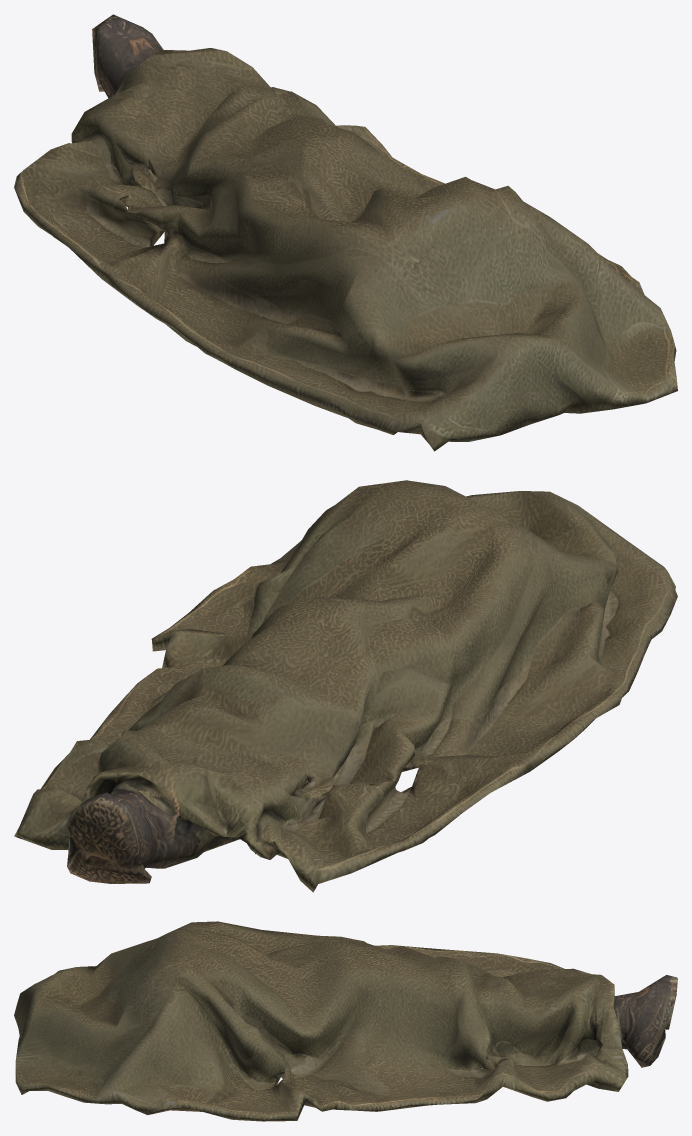
File: SM_PR_BlanketBody_Varco.fbx
3 views of the same model, one above another, from view 1: azimuth 30°, elevation 25°; view 2: azimuth 150°, elevation 25°; view 3: azimuth 270°, elevation 25° (orthographic). The views are drawn at different scales.
Parts seen in each view (by area): view 1: texture_mapping; view 2: texture_mapping; view 3: texture_mapping.
Boxes of the visible parts, left/top/right/bottom form: texture_mapping: left=14, top=14, right=677, bottom=451; texture_mapping: left=14, top=480, right=677, bottom=892; texture_mapping: left=14, top=921, right=677, bottom=1121.
Size of the model in its own units: 0.5465 by 0.9969 by 0.1941.
Materials: 1 (1 with a texture image).
